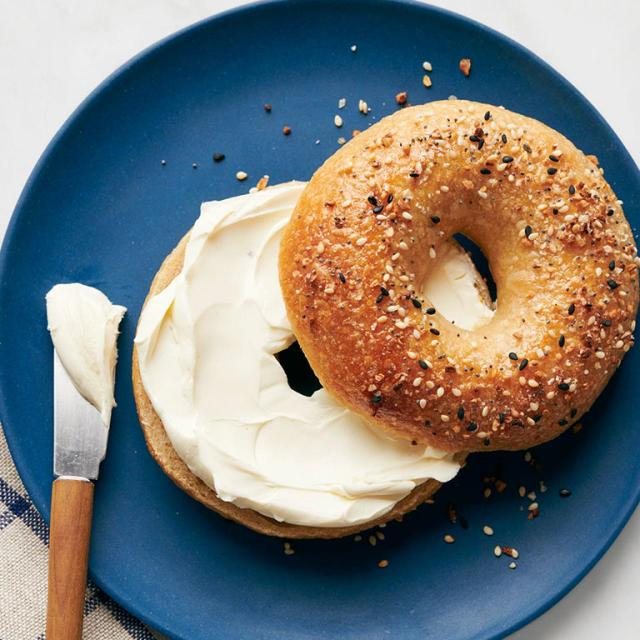Bagel: (279, 100, 640, 452), (132, 347, 441, 539), (145, 231, 190, 304)
